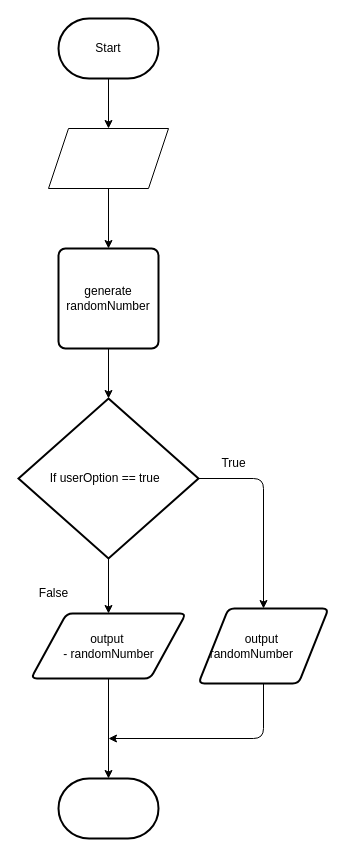
This 346x856 diagram has some shape labels left out. Each missing label, with the centre of its shape:
get userOption: the point at 108,158
Stop: the point at 108,808
